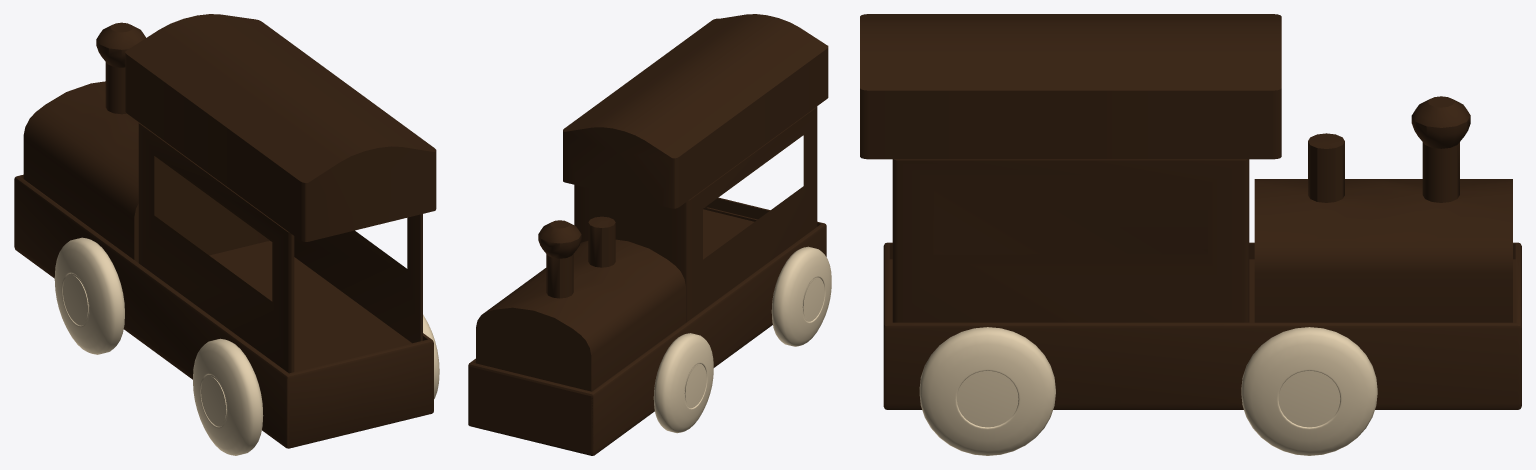
Rendered from 1tren-cabeza.glb.
The picture shows the model from 3 angles, left to right: view 1: azimuth 30°, elevation 25°; view 2: azimuth 150°, elevation 25°; view 3: azimuth 270°, elevation 25°; orthographic projection. The views are drawn at different scales.
Visible parts, largest first — view 1: carriage.002, tire-1.008, tire-1.009; view 2: carriage.002, tire-1.009, tire-1.008; view 3: carriage.002, tire-1.010, tire-1.011.
Part boxes in pixels (x1,y1,x2,y2): carriage.002: (14, 14, 436, 448); tire-1.008: (193, 338, 263, 455); tire-1.009: (54, 237, 124, 354); carriage.002: (468, 14, 828, 455); tire-1.009: (653, 333, 713, 433); tire-1.008: (771, 246, 831, 346); carriage.002: (860, 14, 1521, 409); tire-1.010: (919, 327, 1055, 455); tire-1.011: (1241, 327, 1377, 455).
Size of the model in its own units: 1.99 by 2.95 by 4.75.
2 materials, 1 textured.
